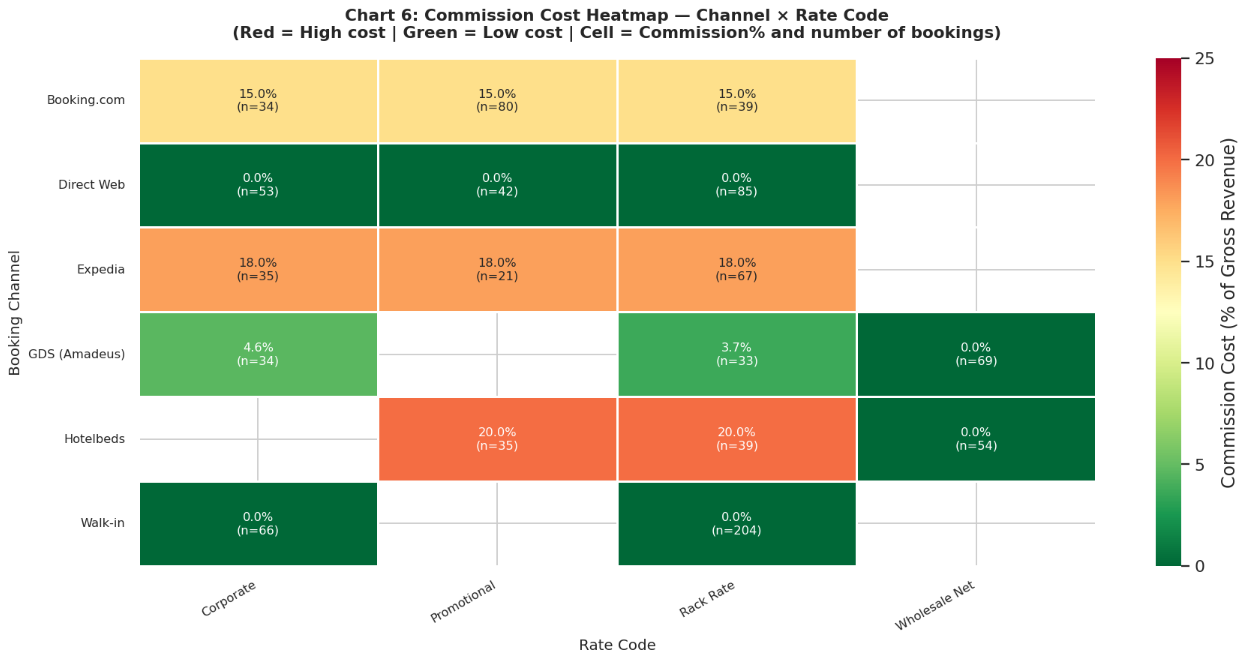

The page's visual inventory and layout, read from the dashboard file:
{"tool":"powerbi","page":{"name":"Page 6","canvas":[1280,720],"ordinal":5},"visuals":[{"type":"pivotTable","fields":{"Rows":["dim_channels (1).channel_name"],"Columns":["dim_rate_codes (1).rate_name"],"Values":["fact_bookings (1).Cost Pct"]},"box":[359.6,256.9,517.9,195.8],"z":0}]}

Visuals, with their boxes on the page's 1280x720 design canvas (x1, y1, x2, y2). These are canvas units, not pixel positions in the 1248x661 screenshot, which may show the page scaled, cropped or inside an application window:
pivotTable - dim_channels (1).channel_name x dim_rate_codes (1).rate_name: box=[360, 257, 878, 453]
